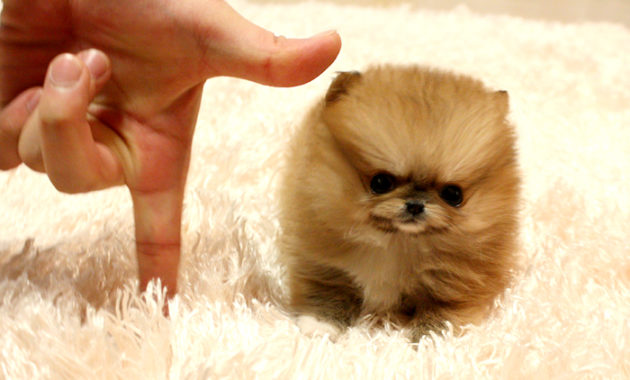pomeranian: (275, 53, 534, 336)
